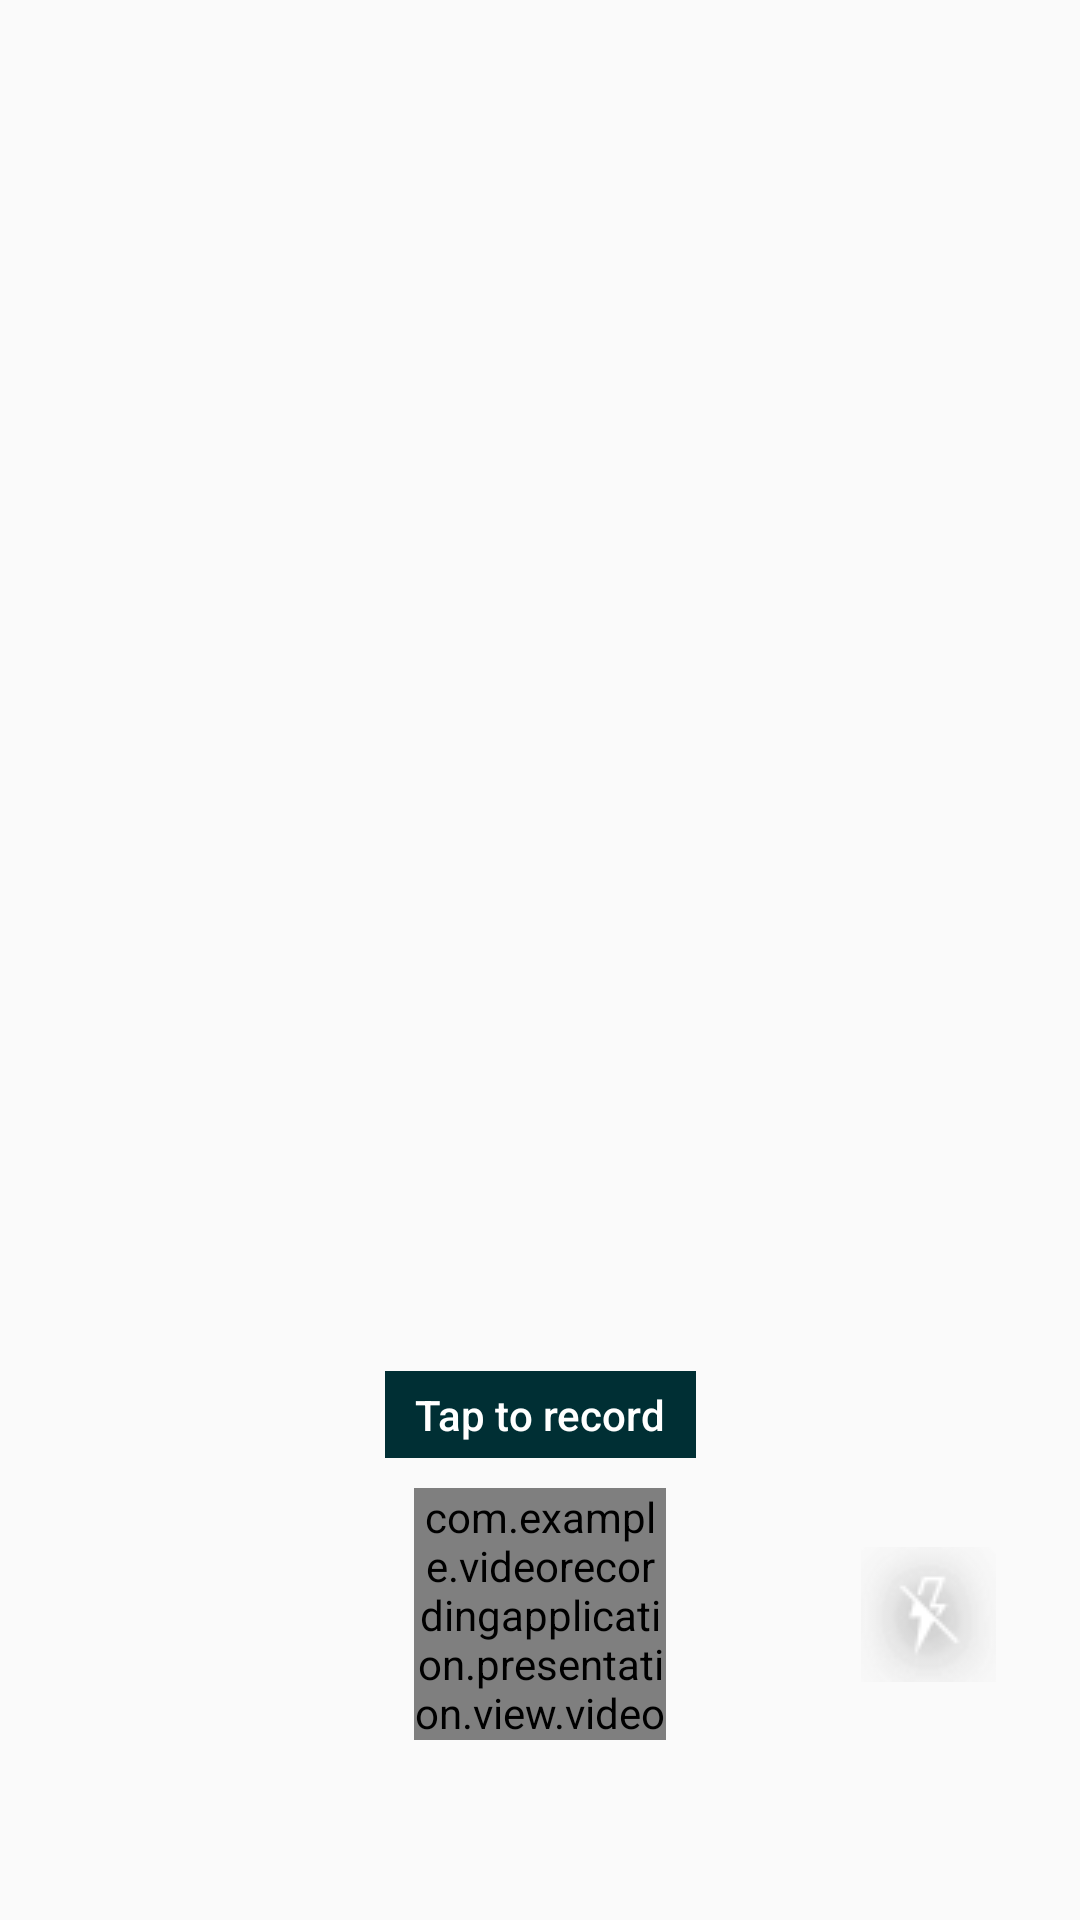

Locate icon controls on the screen. Image size 1080w x 1920h, boxes as (x1, y1, x2, y2).
flash off: (877, 1562, 977, 1675)
